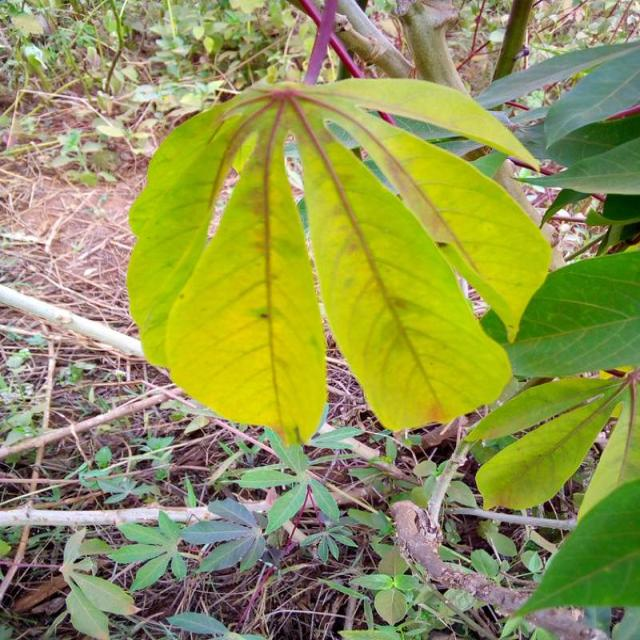cassava leaf: (125, 76, 550, 448), (290, 109, 513, 432)
